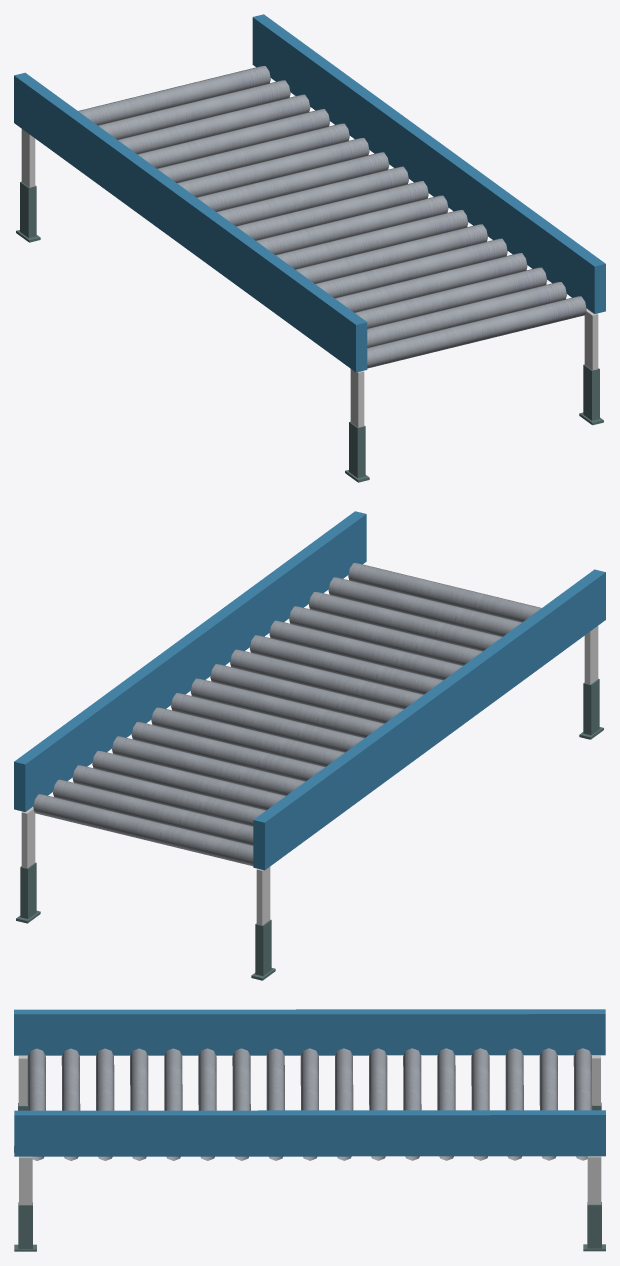
File: conveyor.glb
3 renders of one model, top to bottom at view 1: azimuth 30°, elevation 25°; view 2: azimuth 150°, elevation 25°; view 3: azimuth 270°, elevation 25°, orthographic. The views are drawn at different scales.
Parts seen in each view (by area): view 1: m26.053, m27.039, m28.047, m29.043, m28.048, m29.044; view 2: m26.053, m27.039, m28.048, m29.044, m28.047, m29.043; view 3: m27.039, m26.053, m29.044, m29.043, m28.048, m28.047.
Boxes of the visible parts, x1,y1,x2,y2 form: m26.053: [78, 66, 586, 368]; m27.039: [14, 14, 605, 372]; m28.047: [345, 364, 603, 482]; m29.043: [350, 309, 598, 427]; m28.048: [16, 181, 40, 242]; m29.044: [21, 129, 35, 187]; m26.053: [33, 563, 541, 866]; m27.039: [14, 511, 605, 870]; m28.048: [16, 862, 275, 980]; m29.044: [21, 807, 270, 925]; m28.047: [579, 678, 603, 739]; m29.043: [584, 626, 598, 684]; m27.039: [14, 1009, 605, 1156]; m26.053: [27, 1048, 592, 1160]; m29.044: [587, 1055, 601, 1204]; m29.043: [18, 1056, 32, 1204]; m28.048: [583, 1102, 605, 1251]; m28.047: [14, 1103, 36, 1251].
Bounding box in the file's own units: 1.1 × 0.665 × 2.6.
Materials: 4 (1 with a texture image).
